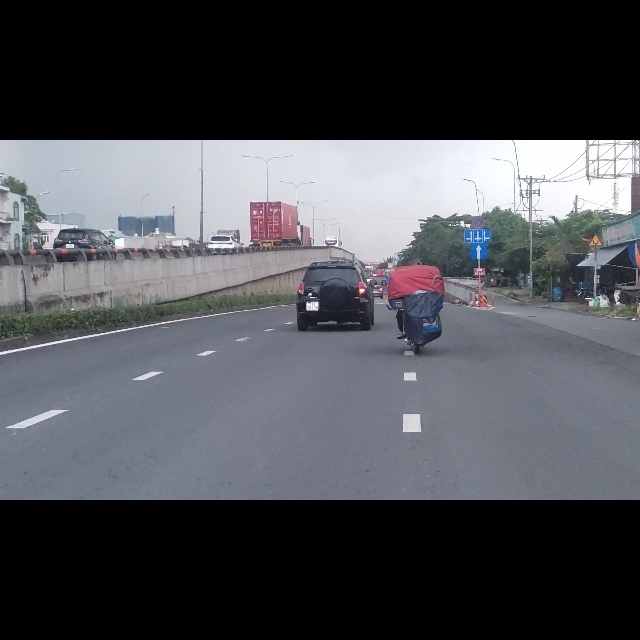bien_nguy_hiem: (471, 183, 487, 212), (589, 166, 603, 187), (472, 137, 485, 157)
